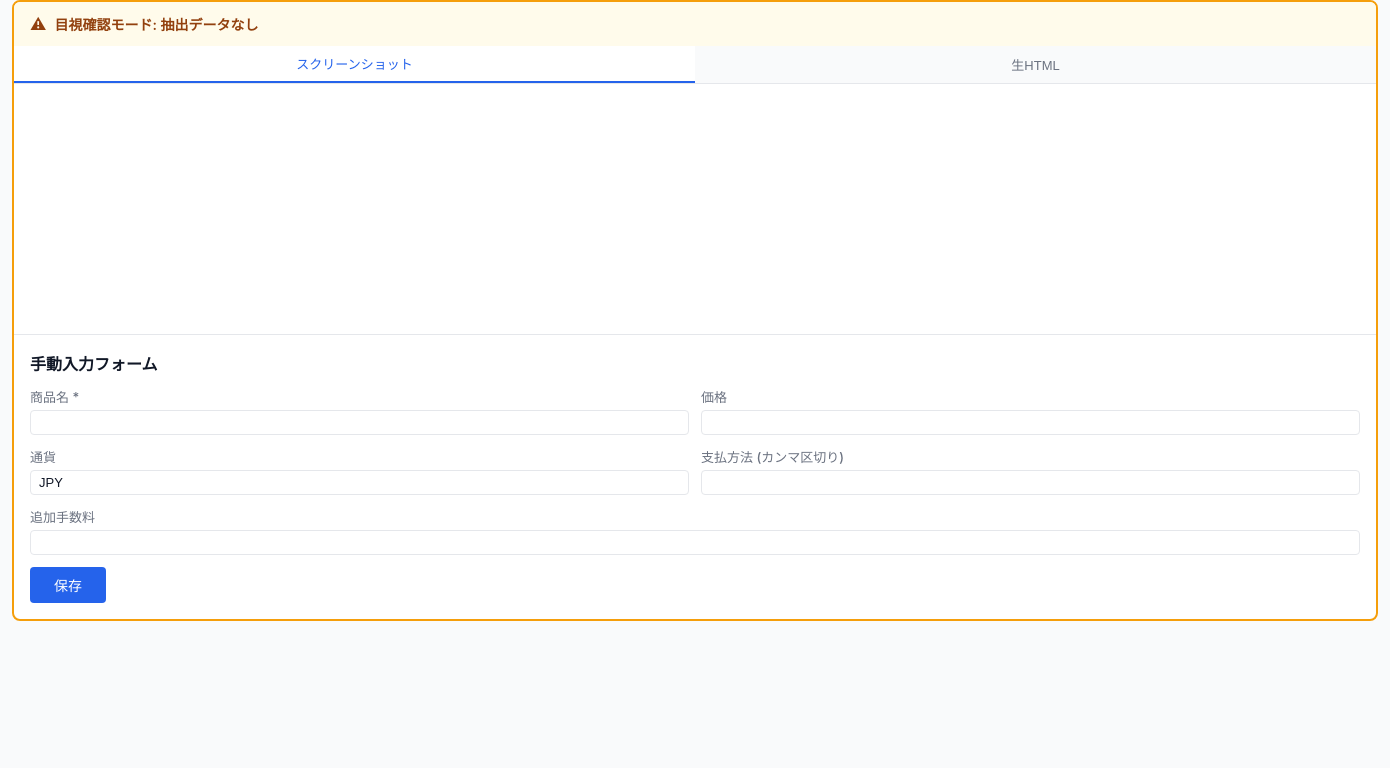
VisualConfirmationPanel › shows empty message when no raw HTML
Step 1. Click the tab "生HTML" → coordinates (1036, 64), box [695,46,1376,83]
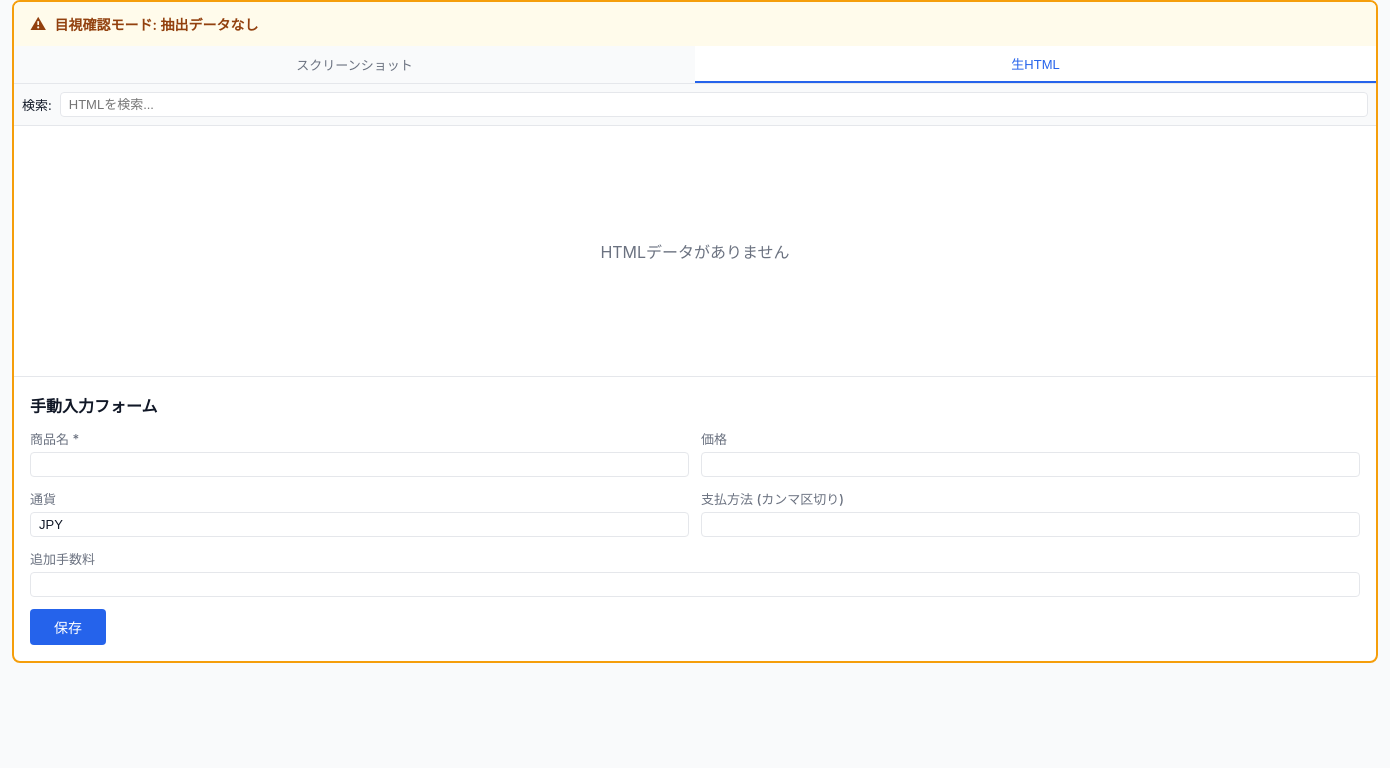
Result: the text "HTMLデータがありません" is shown at [600,242,790,262]
